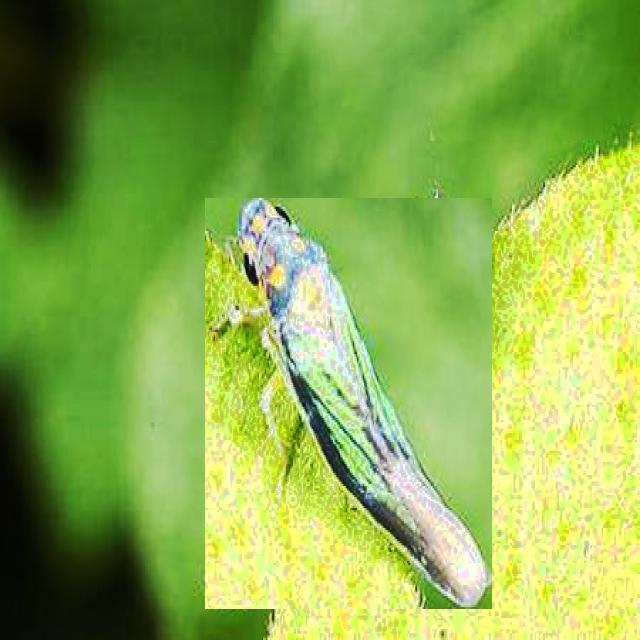green-leafhopper: (205, 198, 492, 609)
